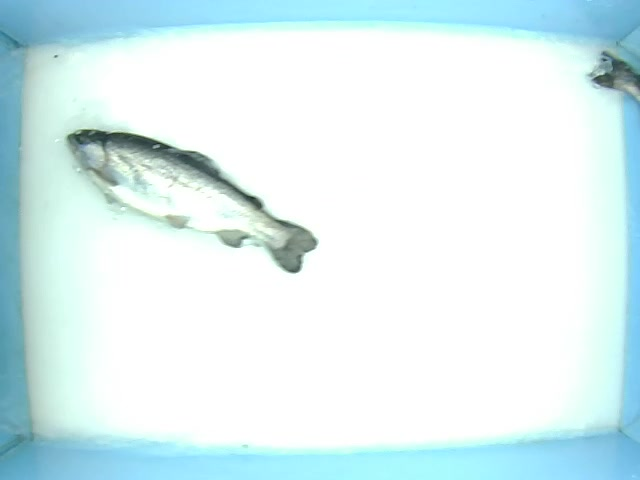fish: (62, 125, 319, 277)
